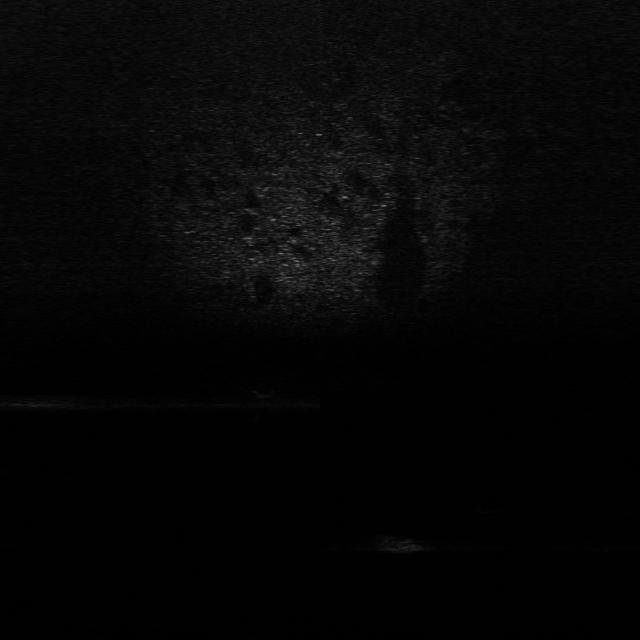ball: (247, 383, 276, 399)
metal bucket: (376, 533, 424, 554)
